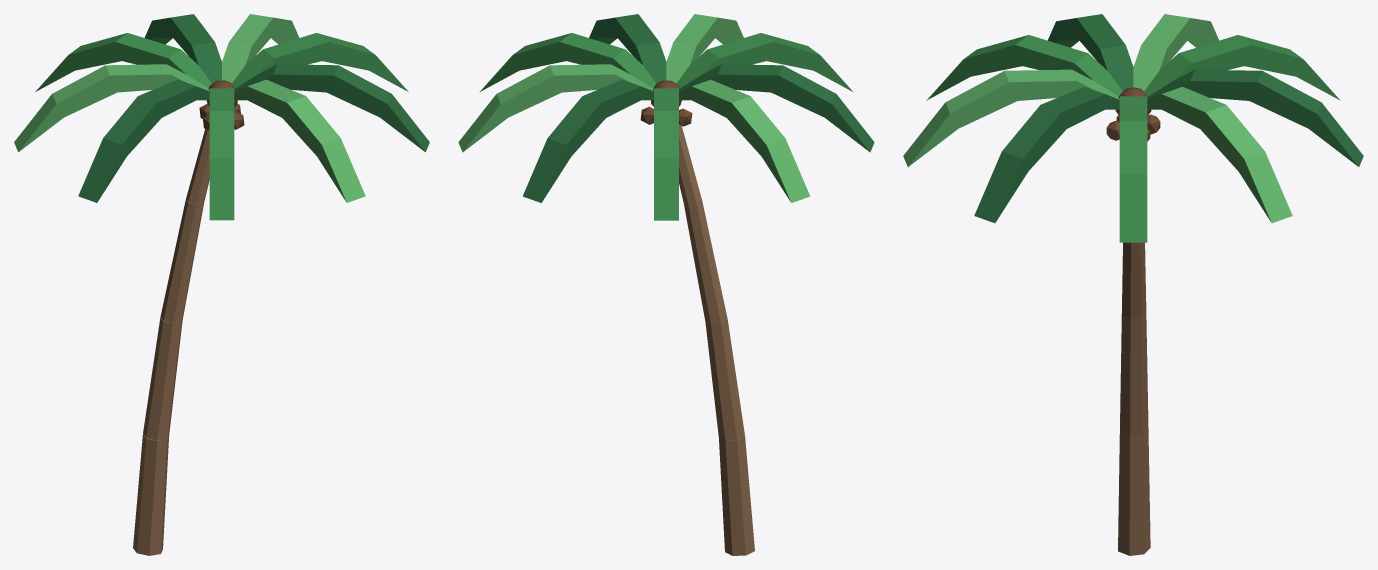
Rendered from tree_palm.glb.
The picture shows the model from 3 angles, left to right: view 1: azimuth 30°, elevation 25°; view 2: azimuth 150°, elevation 25°; view 3: azimuth 270°, elevation 25°; orthographic projection. The views are drawn at different scales.
Parts seen in each view (by area): view 1: tree_palm; view 2: tree_palm; view 3: tree_palm.
Boxes of the visible parts, left/top/right/bottom form: tree_palm: left=14, top=14, right=429, bottom=555; tree_palm: left=458, top=14, right=874, bottom=555; tree_palm: left=903, top=14, right=1363, bottom=555.
Bounding box in the file's own units: 5.29 × 6.71 × 5.37.
